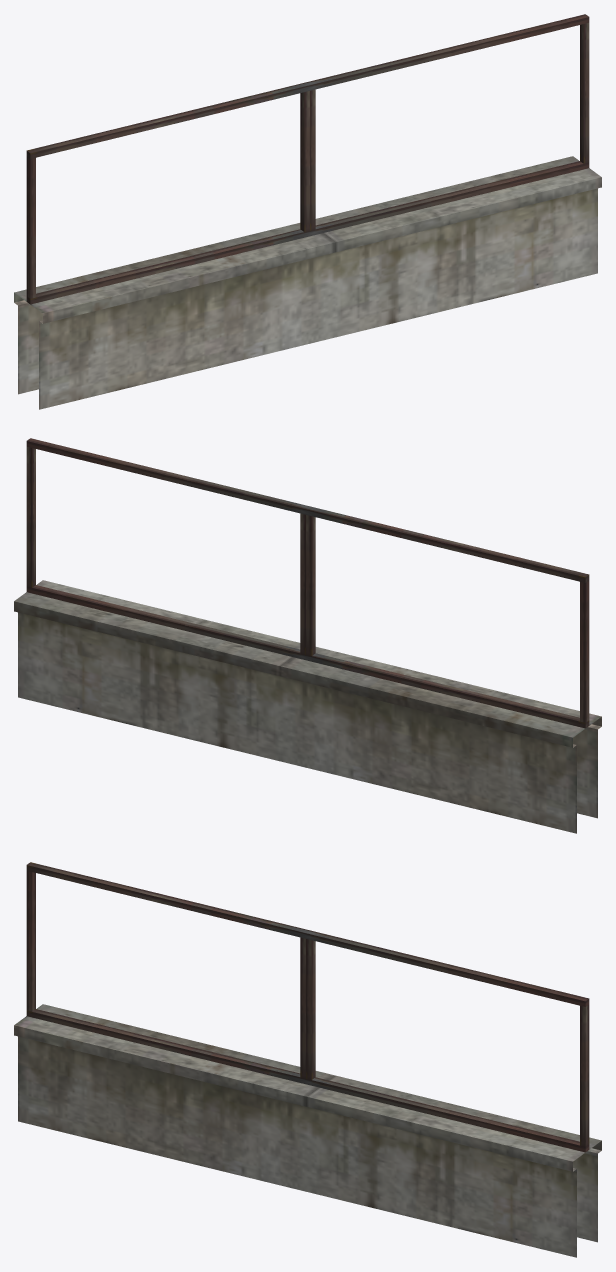
File: Concrete_fence_v2_S.fbx
The picture shows the model from 3 angles, top to bottom: view 1: azimuth 30°, elevation 25°; view 2: azimuth 150°, elevation 25°; view 3: azimuth 330°, elevation 25°; orthographic projection.
Visible parts, largest first — view 1: Concrete_fence_v2_S; view 2: Concrete_fence_v2_S; view 3: Concrete_fence_v2_S.
Part boxes in pixels (x1,y1,x2,y2): Concrete_fence_v2_S: [14, 14, 601, 409]; Concrete_fence_v2_S: [14, 438, 601, 833]; Concrete_fence_v2_S: [14, 862, 601, 1257].
Size of the model in its own units: 600 by 257 by 53.8.
